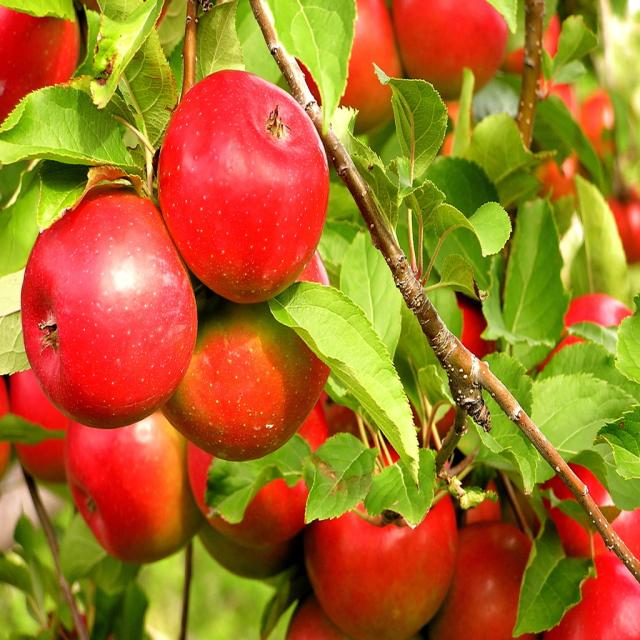Peach: (0, 70, 640, 639), (295, 0, 639, 267), (0, 0, 78, 121)
